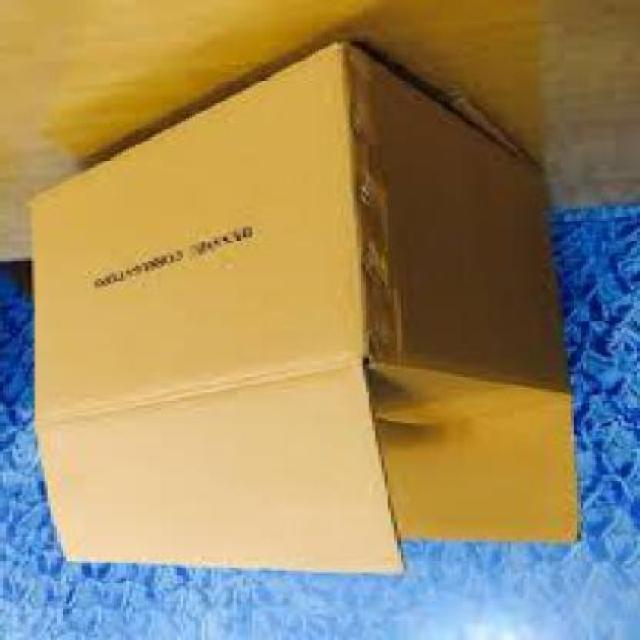CARDBOARD: (36, 42, 586, 580)
